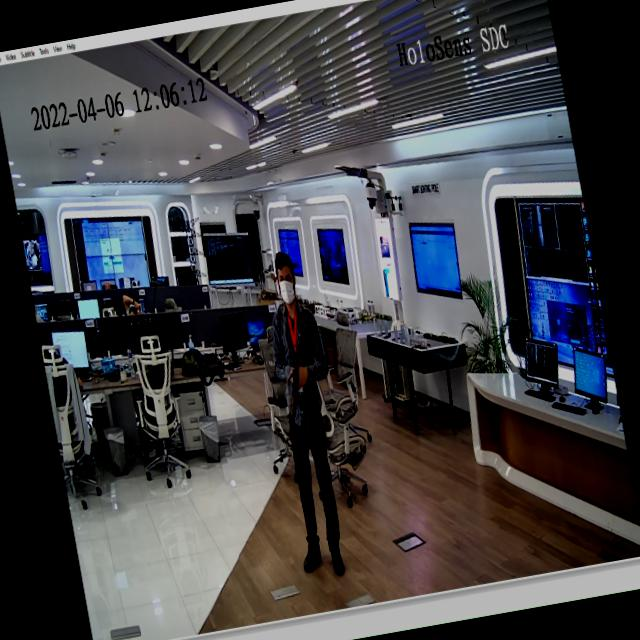long weapon: (266, 339, 326, 456)
